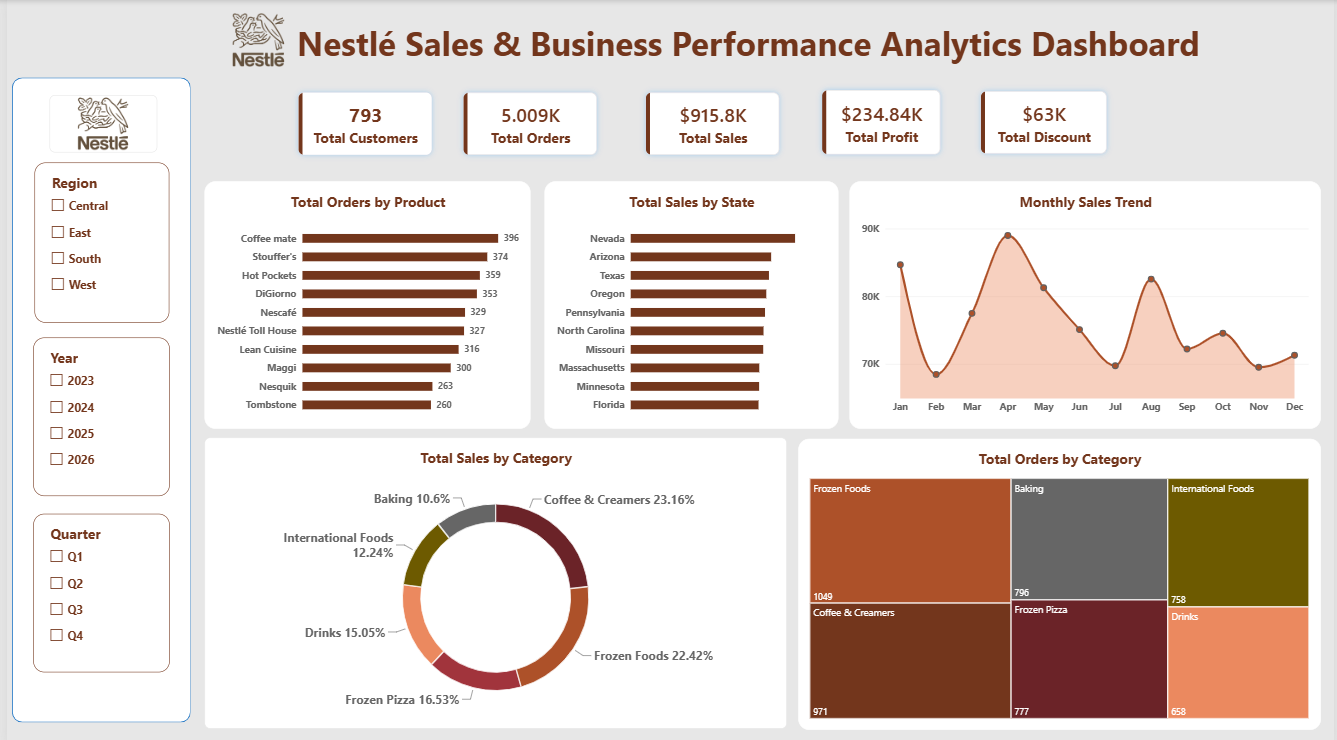

What the dashboard file says about the page in this screenshot:
{"tool":"powerbi","page":{"name":"Sales & Business Overview","canvas":[1920,1080],"ordinal":0},"visuals":[{"type":"textbox","box":[383.6,29,1379.4,82.5],"z":0},{"type":"cardVisual","fields":{"Data":["nestle sales data.Total Customers"]},"box":[410.8,123.1,215.3,112.2],"z":1000},{"type":"cardVisual","fields":{"Data":["nestle sales data.Total Orders"]},"box":[649.7,123.1,215.3,112.2],"z":2000},{"type":"cardVisual","fields":{"Data":["nestle sales data.Total Sales"]},"box":[913.9,123.1,215.3,112.2],"z":3000},{"type":"cardVisual","fields":{"Data":["nestle sales data.Total Profit"]},"box":[1169,119.4,193.6,115.8],"z":4000},{"type":"cardVisual","fields":{"Data":["nestle sales data.Total Discount"]},"box":[1398.9,121.2,204.5,112.2],"z":5000},{"type":"lineChart","title":"Monthly Sales Trend","fields":{"Category":["DateTable.Month"],"Y":["Sum(nestle sales data.Total_Sales)"]},"box":[1219.7,262.4,682.2,358.3],"z":6000},{"type":"barChart","title":"Total Orders by Product","fields":{"Y":["nestle sales data.Total Orders"],"Category":["nestle sales data.Product"]},"box":[285.9,262.4,472.3,358.3],"z":7000},{"type":"donutChart","fields":{"Y":["nestle sales data.Total Sales"],"Category":["nestle sales data.Category"]},"box":[285.9,633.4,843.3,421.7],"z":8000},{"type":"treemap","fields":{"Group":["nestle sales data.Category"],"Values":["nestle sales data.Total Orders"]},"box":[1145.5,635.2,756.4,421.7],"z":9000},{"type":"barChart","fields":{"Category":["nestle sales data.State"],"Y":["nestle sales data.Total Sales"]},"box":[778.2,262.4,425.3,358.3],"z":10000},{"type":"image","box":[285.9,16.3,155.6,83.2],"z":11000},{"type":"shape","box":[7.2,112.2,258.8,933.8],"z":12000},{"type":"slicer","fields":{"Values":["nestle sales data.Region"]},"box":[39.8,235.3,195.4,231.6],"z":13000},{"type":"slicer","fields":{"Values":["nestle sales data.Quarter"]},"box":[38,743.8,197.3,229.8],"z":14000},{"type":"slicer","fields":{"Values":["DateTable.Year"]},"box":[38,488.6,197.3,229.8],"z":15000},{"type":"image","box":[61.5,137.5,155.6,83.2],"z":16000}]}

Visuals, with their boxes in screenshot pixels (x1, y1, x2, y2), scaled from the page's 1920x1080 canvas onto the 1337x740 screenshot:
textbox: [x1=267, y1=20, x2=1228, y2=76]
cardVisual - nestle sales data.Total Customers: [x1=286, y1=84, x2=436, y2=161]
cardVisual - nestle sales data.Total Orders: [x1=452, y1=84, x2=602, y2=161]
cardVisual - nestle sales data.Total Sales: [x1=636, y1=84, x2=786, y2=161]
cardVisual - nestle sales data.Total Profit: [x1=814, y1=82, x2=949, y2=161]
cardVisual - nestle sales data.Total Discount: [x1=974, y1=83, x2=1117, y2=160]
"Monthly Sales Trend" lineChart: [x1=849, y1=180, x2=1324, y2=425]
"Total Orders by Product" barChart: [x1=199, y1=180, x2=528, y2=425]
donutChart - nestle sales data.Total Sales x nestle sales data.Category: [x1=199, y1=434, x2=786, y2=723]
treemap - nestle sales data.Category x nestle sales data.Total Orders: [x1=798, y1=435, x2=1324, y2=724]
barChart - nestle sales data.State x nestle sales data.Total Sales: [x1=542, y1=180, x2=838, y2=425]
image: [x1=199, y1=11, x2=307, y2=68]
shape: [x1=5, y1=77, x2=185, y2=717]
slicer - nestle sales data.Region: [x1=28, y1=161, x2=164, y2=320]
slicer - nestle sales data.Quarter: [x1=26, y1=510, x2=164, y2=667]
slicer - DateTable.Year: [x1=26, y1=335, x2=164, y2=492]
image: [x1=43, y1=94, x2=151, y2=151]
